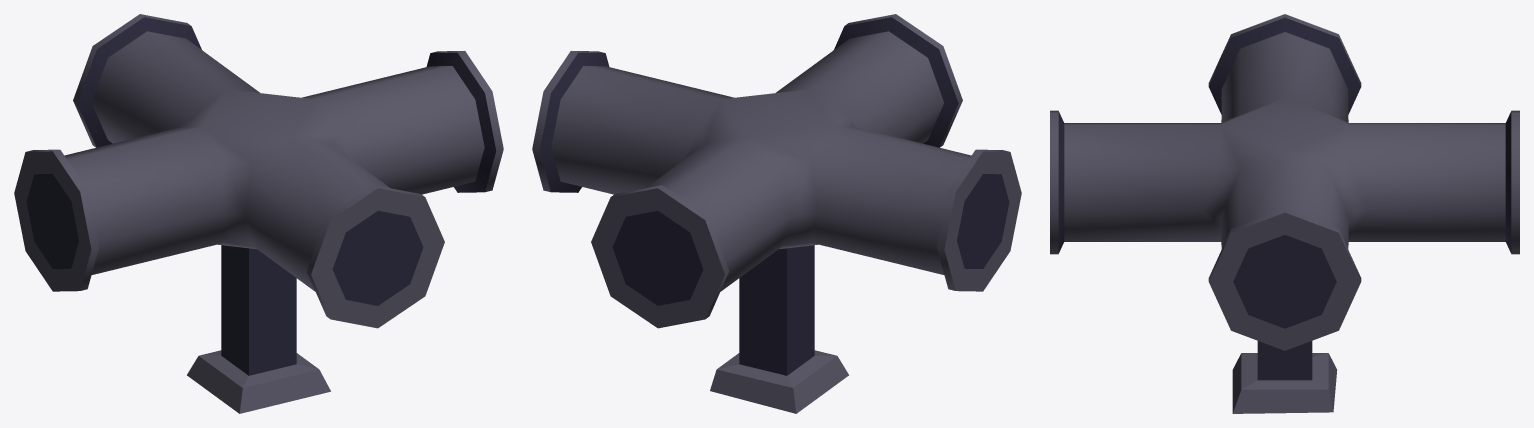
The model's file is PipeCross.fbx.
The picture shows the model from 3 angles, left to right: view 1: azimuth 30°, elevation 25°; view 2: azimuth 150°, elevation 25°; view 3: azimuth 270°, elevation 25°; orthographic projection.
Visible parts, largest first — view 1: PipeCross; view 2: PipeCross; view 3: PipeCross.
Boxes of the visible parts, left/top/right/bottom form: PipeCross: left=14, top=14, right=503, bottom=413; PipeCross: left=532, top=14, right=1021, bottom=413; PipeCross: left=1050, top=14, right=1519, bottom=413.
Size of the model in its own units: 100 by 65.42 by 100.
